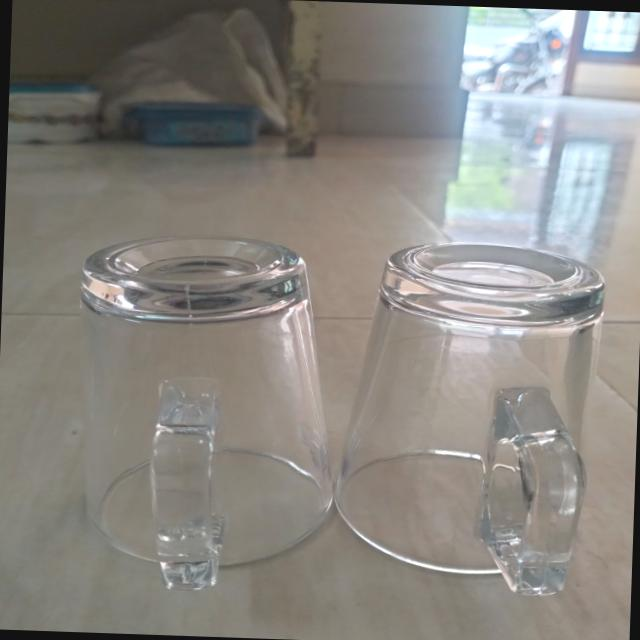glass-VX4N: (65, 227, 342, 601), (346, 233, 611, 615)
